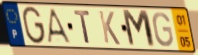A: (46, 8, 73, 45)
G: (21, 5, 47, 46), (152, 11, 176, 49)
K: (97, 9, 122, 46)
M: (120, 8, 158, 50)
T: (73, 9, 92, 45)
